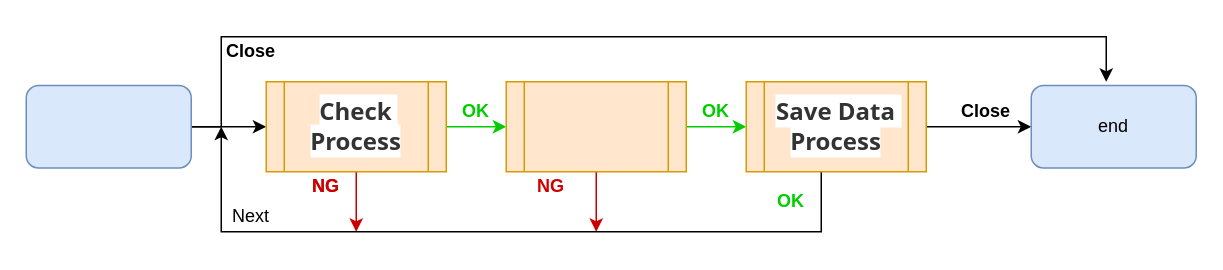
Some shapes in this 1223 by 270 pixel diagram are drawn without their labels. The shapes that lost their labels are listed below. From the top down, each one's centre as x and y in pixels, then its label:
At pixel 108 126: "start (Scan USN/ Carton/Pallet)".
At pixel 595 126: "Weight Process".
